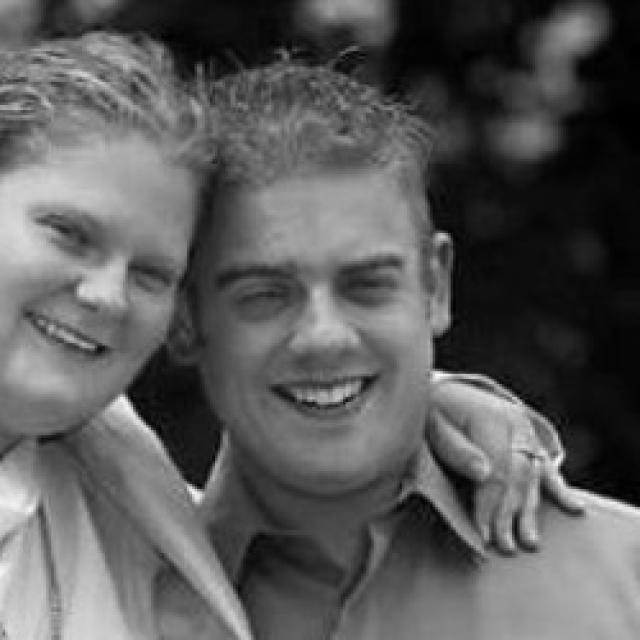real: (200, 171, 442, 502), (8, 128, 186, 442), (225, 255, 393, 328)
